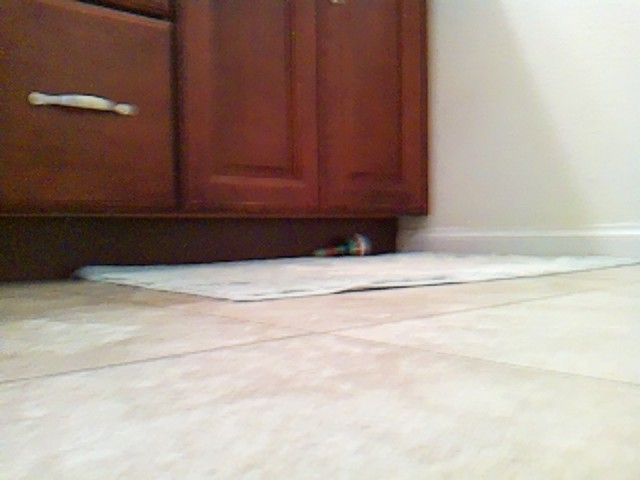Drivable Area: (98, 304, 640, 480), (90, 269, 640, 322), (5, 283, 104, 480)
Obstacle: (314, 239, 377, 258)
